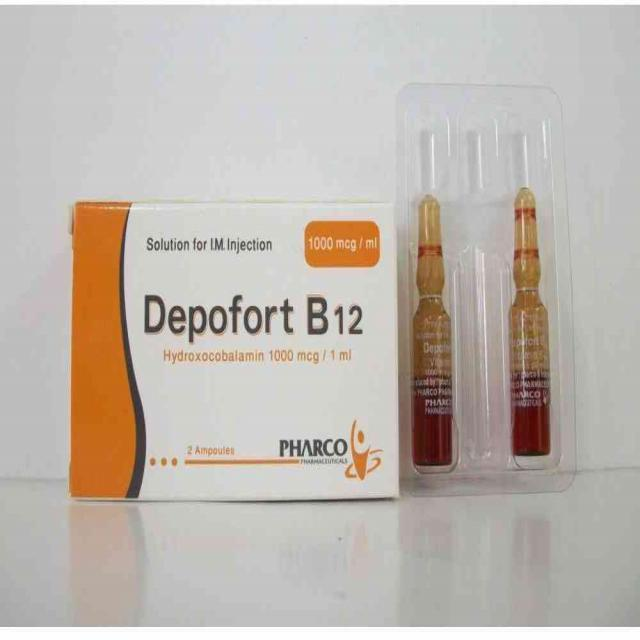drug-name: (142, 294, 367, 344)
